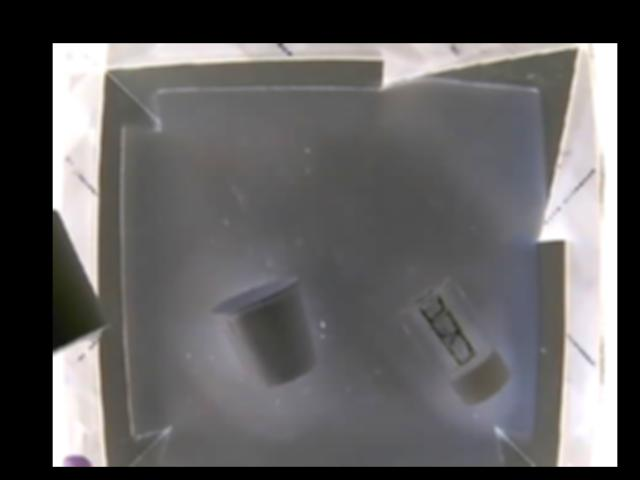Bottle: (402, 275, 513, 405)
Cup: (210, 278, 319, 390)
